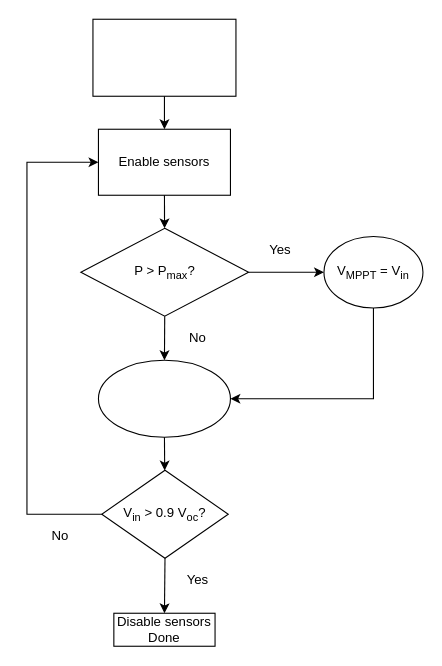
Image size: 442x666. Some labels were removed from this diagram. Here are the shapes that lost their labels. From the top down, the box of each, then its label:
(92, 18, 236, 96): Initialize parameters: P max = 0 V in = 50% V oc V MPPT = 0
(97, 359, 230, 437): Adjust PWM s.t. V in = V in + 0.1V
